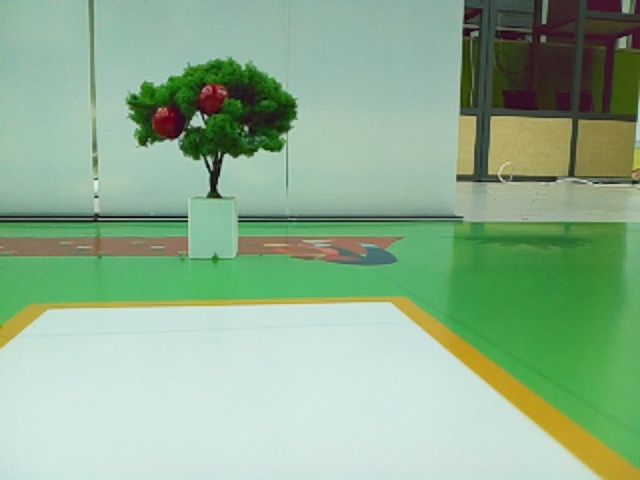apple: (199, 84, 226, 112), (152, 107, 176, 137)
